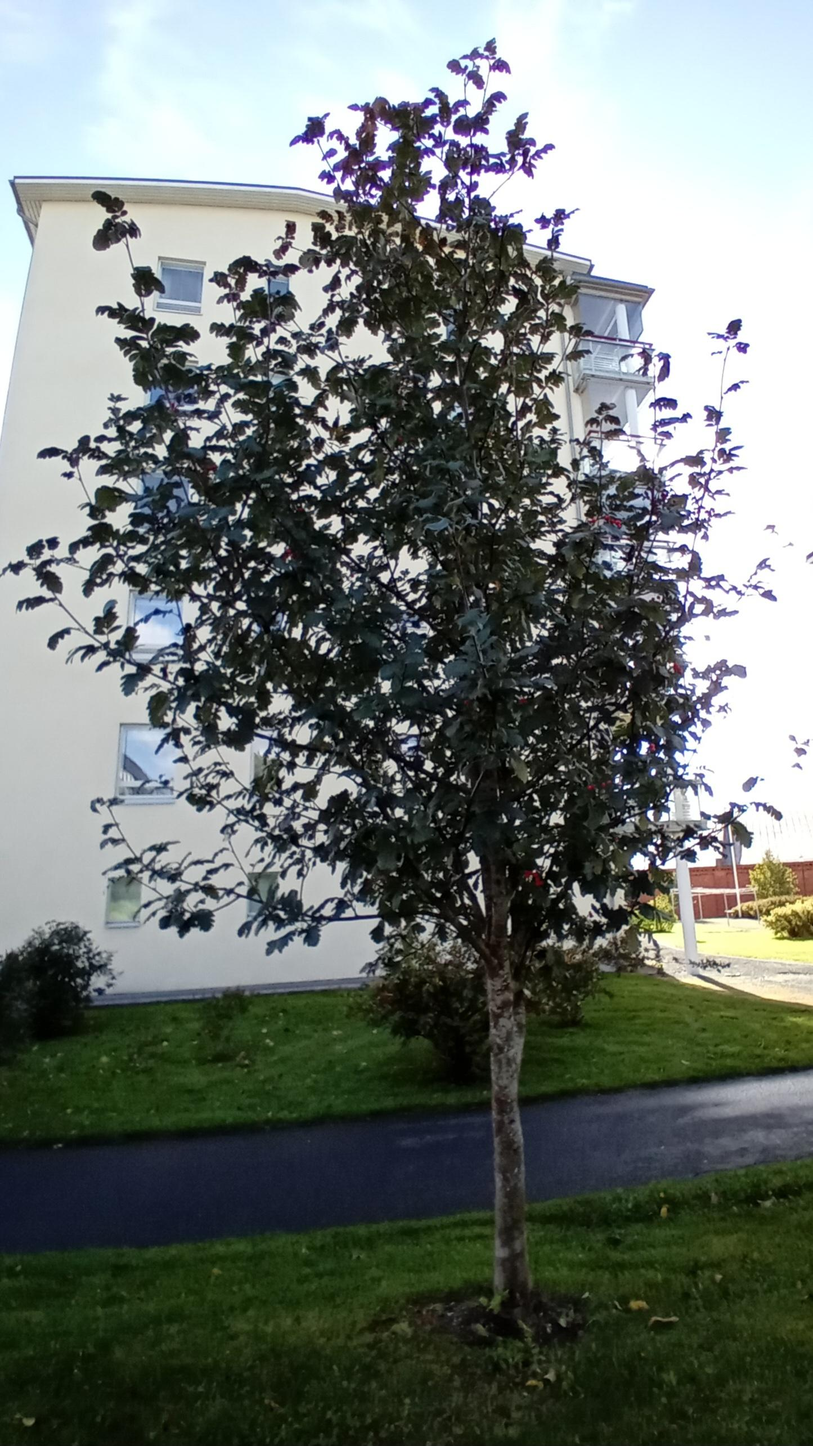Rowan: (132, 35, 794, 1349)
